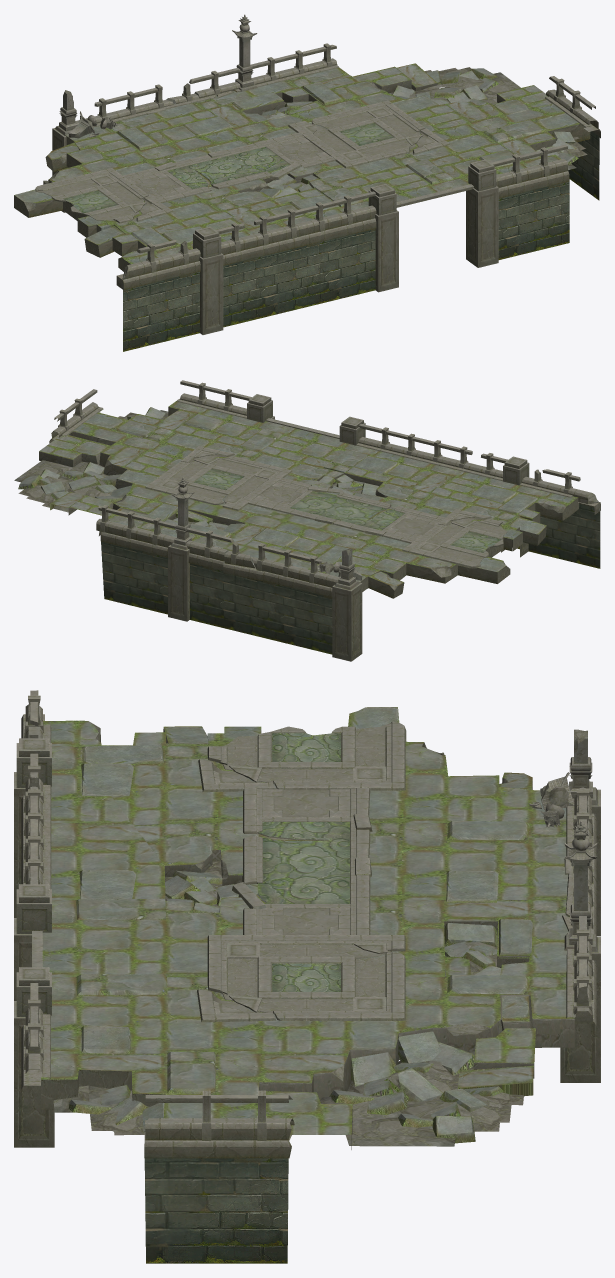
The model's file is wlf_duanqiao01_jgc.FBX.
The picture shows the model from 3 angles, top to bottom: view 1: azimuth 30°, elevation 25°; view 2: azimuth 150°, elevation 25°; view 3: azimuth 270°, elevation 25°; orthographic projection. The views are drawn at different scales.
Visible parts, largest first — view 1: wlf_duanqiao01_jgc; view 2: wlf_duanqiao01_jgc; view 3: wlf_duanqiao01_jgc.
Boxes of the visible parts, x1,y1,x2,y2 form: wlf_duanqiao01_jgc: (14, 14, 600, 351); wlf_duanqiao01_jgc: (14, 380, 600, 661); wlf_duanqiao01_jgc: (14, 690, 600, 1263).
Bounding box in the file's own units: 338 × 93.78 × 196.
